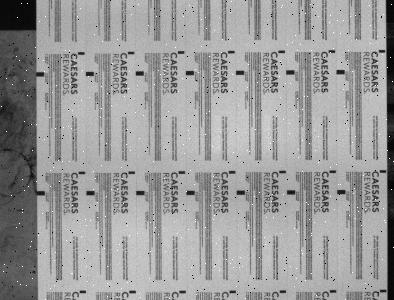qblock: (135, 71, 144, 76), (287, 190, 296, 195), (186, 190, 195, 195), (86, 71, 94, 76), (236, 70, 244, 75), (36, 72, 44, 77), (237, 190, 245, 195), (336, 70, 345, 74), (286, 70, 295, 74), (86, 191, 95, 195), (136, 191, 145, 195), (186, 71, 194, 75), (337, 190, 345, 194), (36, 191, 44, 195)
smallqblock: (178, 50, 185, 54), (228, 50, 235, 54), (379, 49, 386, 53), (179, 170, 186, 174), (330, 289, 337, 293), (129, 170, 135, 174), (380, 169, 386, 173), (279, 290, 287, 293), (179, 290, 187, 293), (229, 290, 237, 293), (78, 52, 85, 55), (278, 50, 285, 53), (279, 170, 286, 173), (329, 170, 336, 173), (229, 170, 236, 173), (79, 290, 86, 293), (129, 290, 136, 293), (380, 289, 387, 292), (128, 51, 135, 54), (328, 50, 335, 53), (79, 171, 85, 174)
